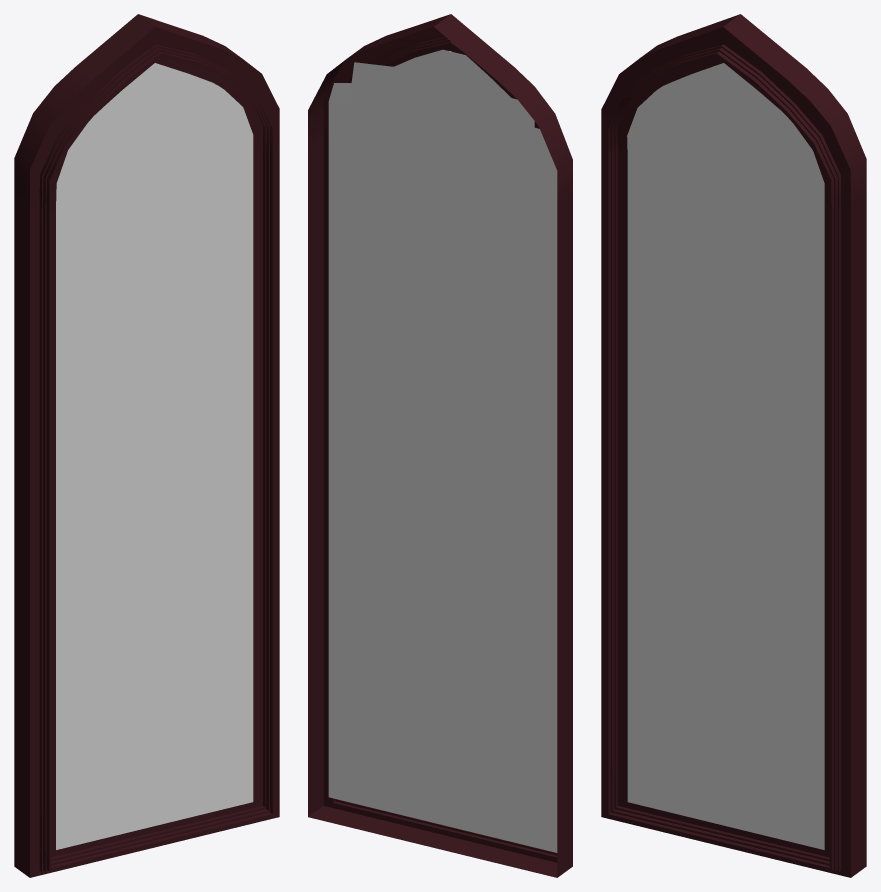
Rendered from Single_Glass_2_.fbx.
3 views of the same model, side by side, from view 1: azimuth 30°, elevation 25°; view 2: azimuth 150°, elevation 25°; view 3: azimuth 330°, elevation 25° (orthographic).
Parts seen in each view (by area): view 1: Plane.021, Paint 1.015; view 2: Plane.021, Paint 1.015; view 3: Plane.021, Paint 1.015.
Boxes of the visible parts, x1=… form: Plane.021: x1=56, y1=63, x2=253, y2=849; Paint 1.015: x1=14, y1=14, x2=279, y2=877; Plane.021: x1=328, y1=49, x2=557, y2=852; Paint 1.015: x1=308, y1=14, x2=572, y2=877; Plane.021: x1=627, y1=63, x2=824, y2=849; Paint 1.015: x1=601, y1=14, x2=866, y2=877.
Bounding box in the file's own units: 123 × 389 × 20.68.
